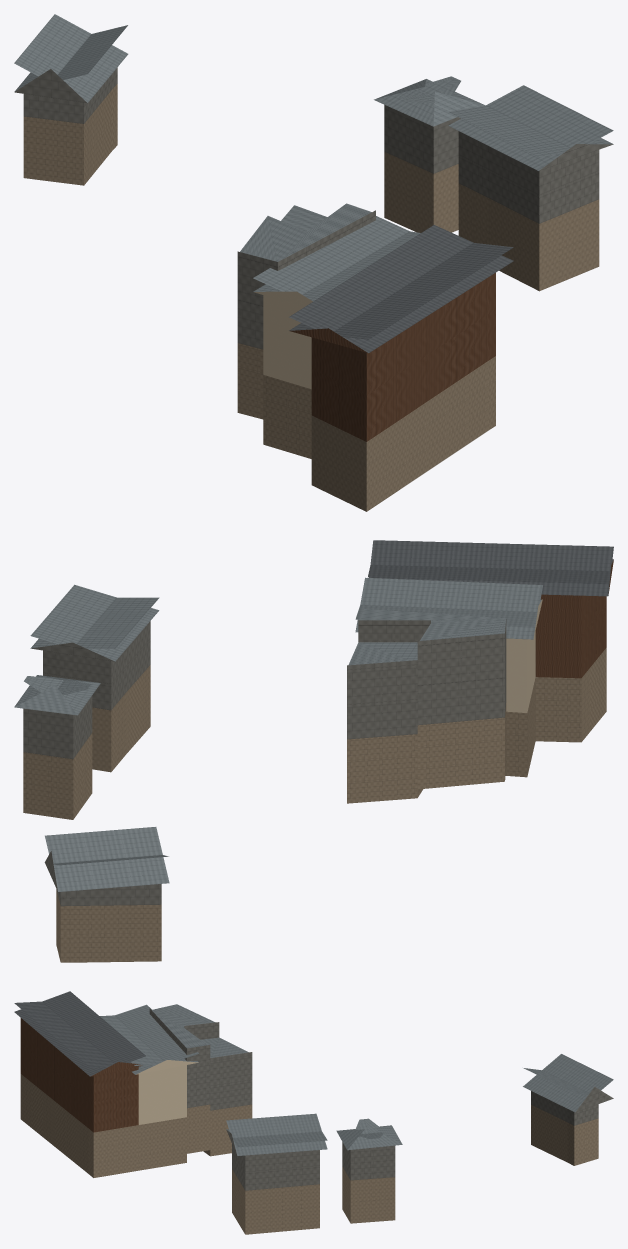
File: bld_c21_44_383.gltf
3 renders of one model, top to bottom at view 1: azimuth 30°, elevation 25°; view 2: azimuth 150°, elevation 25°; view 3: azimuth 270°, elevation 25°, orthographic. The views are drawn at different scales.
Visible parts, largest first — view 1: bld_c21_44_383; view 2: bld_c21_44_383; view 3: bld_c21_44_383.
Part boxes in pixels (<box>): bld_c21_44_383: <box>14,14,613,511</box>; bld_c21_44_383: <box>14,540,613,962</box>; bld_c21_44_383: <box>14,991,613,1234</box>.
Size of the model in its own units: 34.63 by 12.9 by 60.81.
9 materials, 9 textured.
